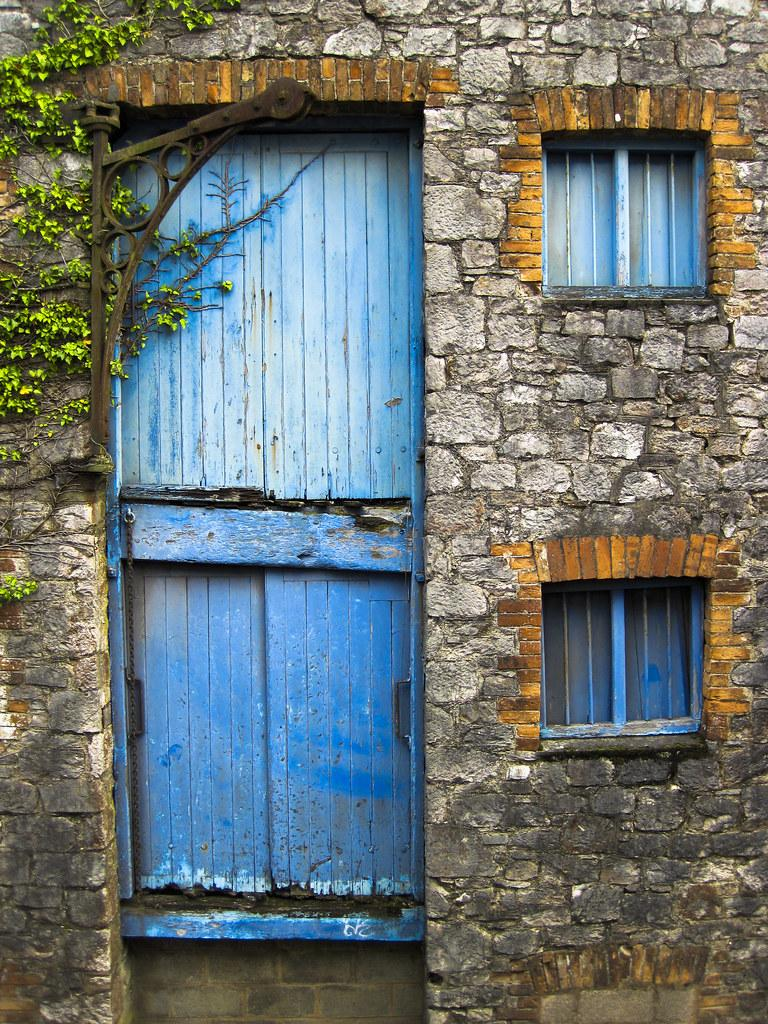door: (111, 120, 426, 935)
